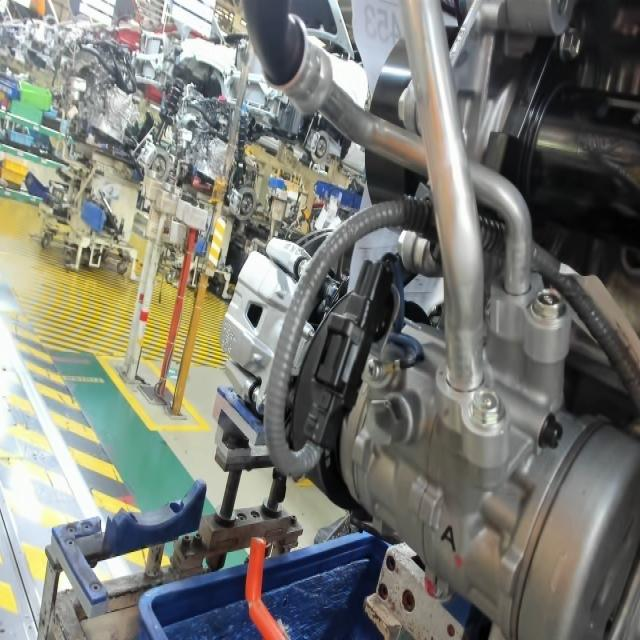Compressor-A: (434, 516, 460, 562)
